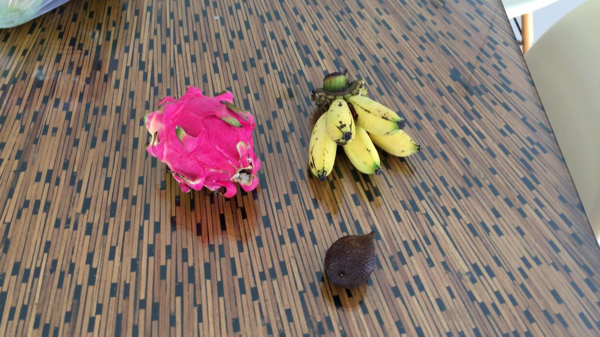banana: (305, 70, 421, 183)
dragon fruit: (144, 84, 264, 200)
snake fruit: (323, 232, 379, 293)
